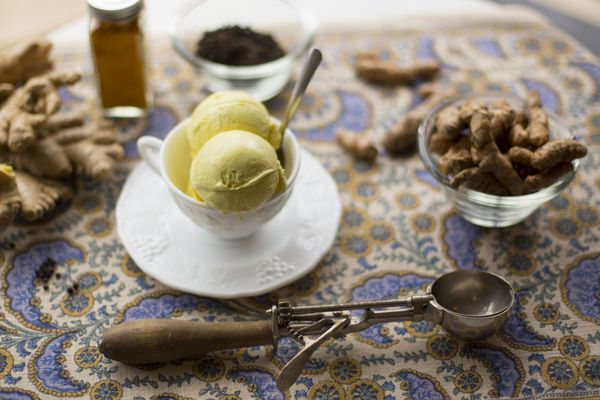salad: (276, 47, 322, 145)
sushi: (418, 81, 582, 228), (173, 1, 317, 103), (429, 268, 514, 341)
